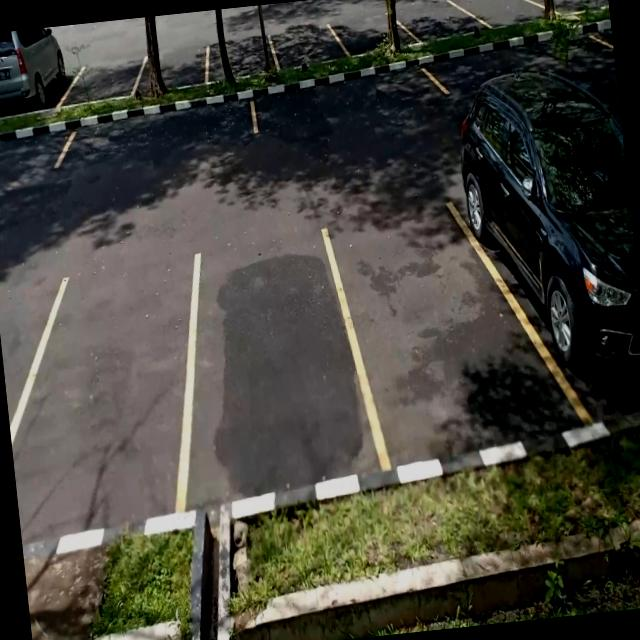car: (454, 54, 640, 423), (0, 47, 76, 120)
free: (324, 199, 587, 465), (11, 247, 197, 537), (182, 227, 384, 487), (54, 97, 260, 176), (248, 64, 446, 145), (202, 26, 278, 86), (133, 42, 214, 96), (266, 16, 346, 68), (74, 52, 146, 102), (391, 7, 492, 42), (337, 12, 408, 58), (465, 0, 534, 34), (531, 0, 597, 16)
